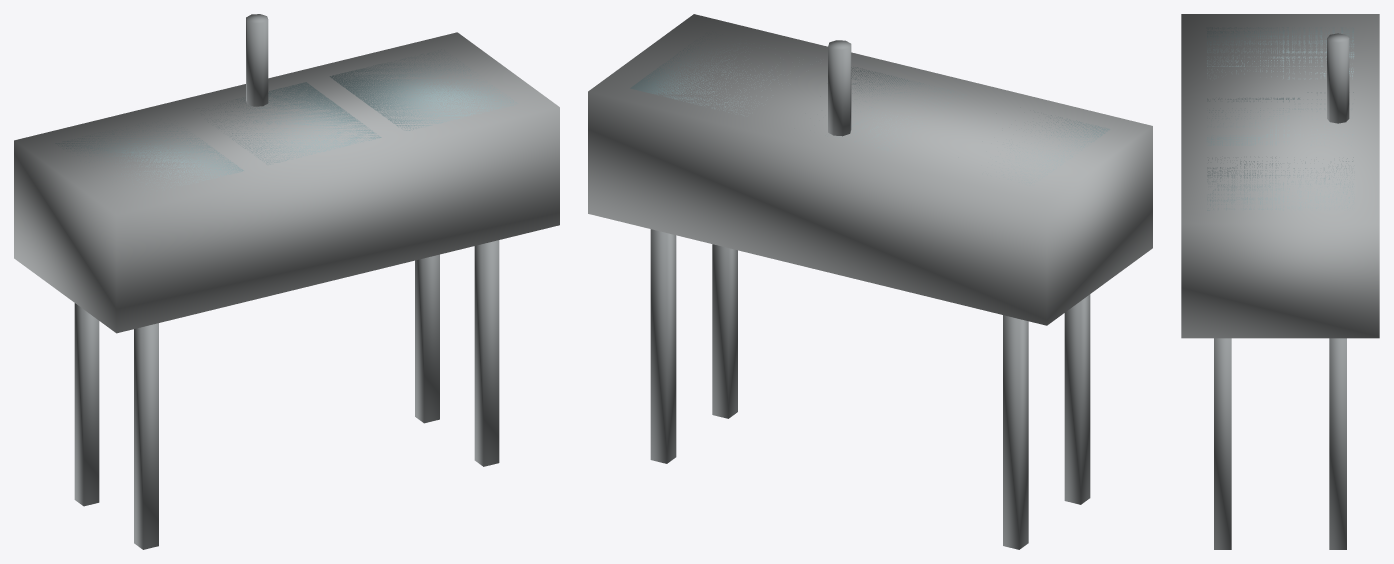
The model's file is three_bay_sink__tall.glb.
3 views of the same model, side by side, from view 1: azimuth 30°, elevation 25°; view 2: azimuth 150°, elevation 25°; view 3: azimuth 270°, elevation 25° (orthographic). The views are drawn at different scales.
Visible parts, largest first — view 1: world; view 2: world; view 3: world.
Part boxes in pixels (box(x1,y1,x2,y2)): world: box(14, 14, 559, 549); world: box(588, 14, 1152, 549); world: box(1181, 14, 1379, 549).
Bounding box in the file's own units: 1.55 × 1.47 × 0.62.
